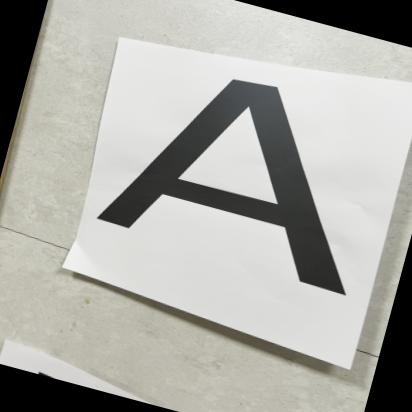seat: (68, 38, 400, 307)
